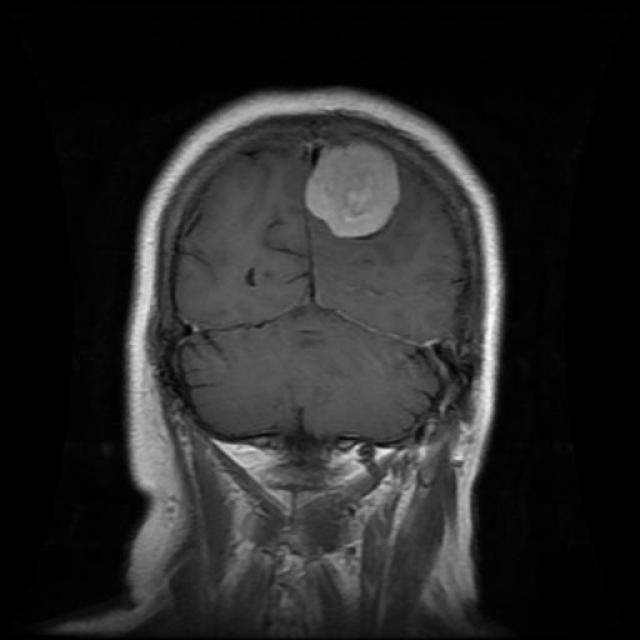meningioma: (306, 139, 401, 241)
